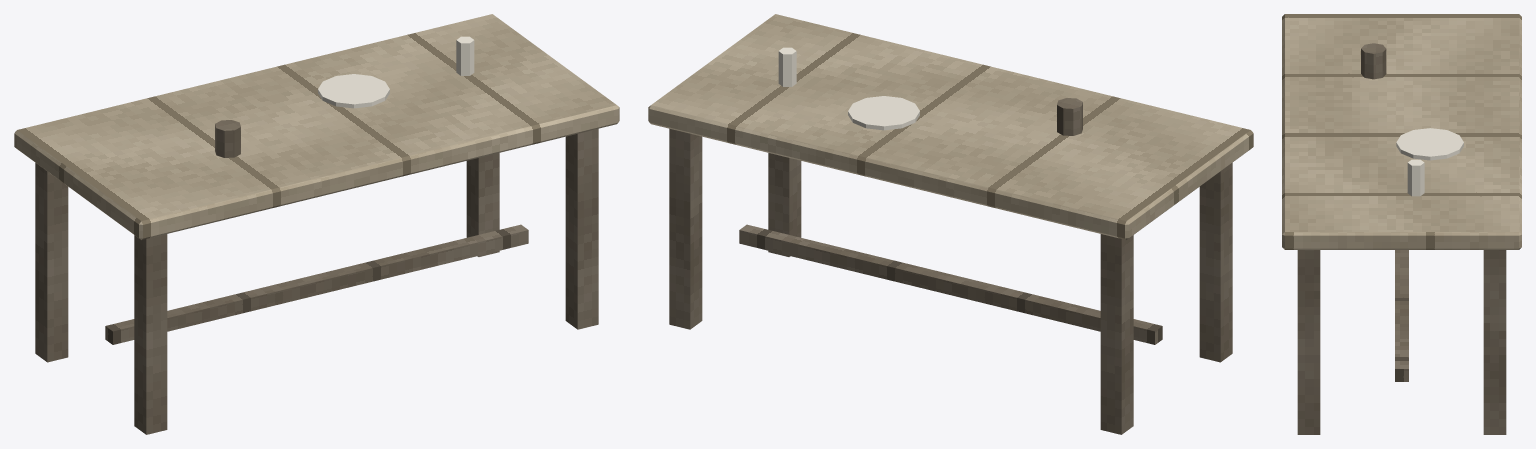
The model's file is table_wood_off.obj.
3 renders of one model, left to right at view 1: azimuth 30°, elevation 25°; view 2: azimuth 150°, elevation 25°; view 3: azimuth 270°, elevation 25°, orthographic. The views are drawn at different scales.
Visible parts, largest first — view 1: table_wood; view 2: table_wood; view 3: table_wood.
Part boxes in pixels (x1,y1,x2,y2): table_wood: (14,14,619,434); table_wood: (648,14,1253,434); table_wood: (1282,14,1521,434).
Bounding box in the file's own units: 1.85 × 0.94 × 0.85.
